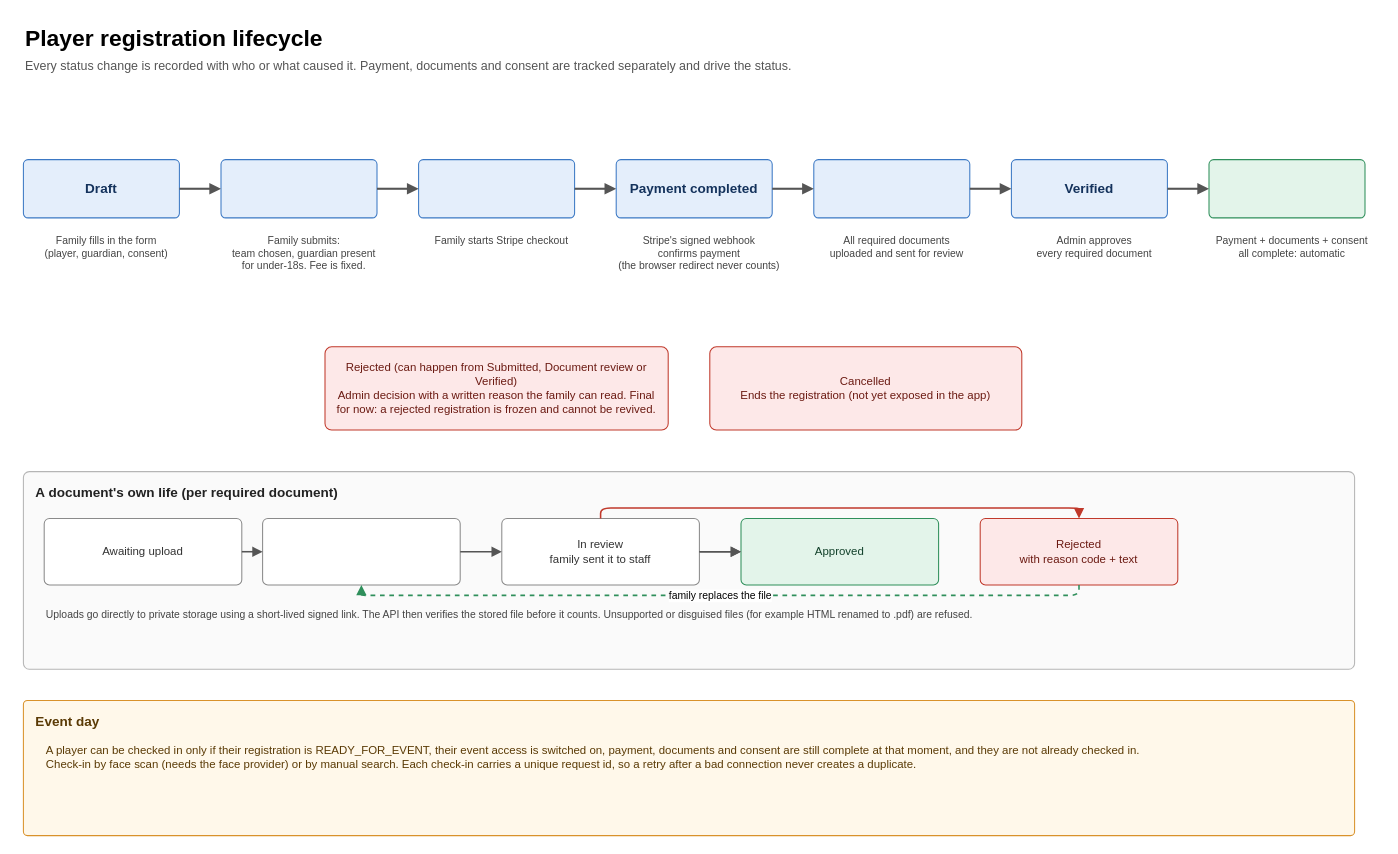
This 1398x854 diagram has some shape labels left out. The centre of each missing label's shape, as x and y in pixels:
"Document review" goes at (x=891, y=188).
"Payment pending" goes at (x=496, y=188).
"Ready for event" goes at (x=1286, y=188).
"Submitted" goes at (x=298, y=188).
"Uploaded server checked size + real file type" goes at (x=361, y=551).
